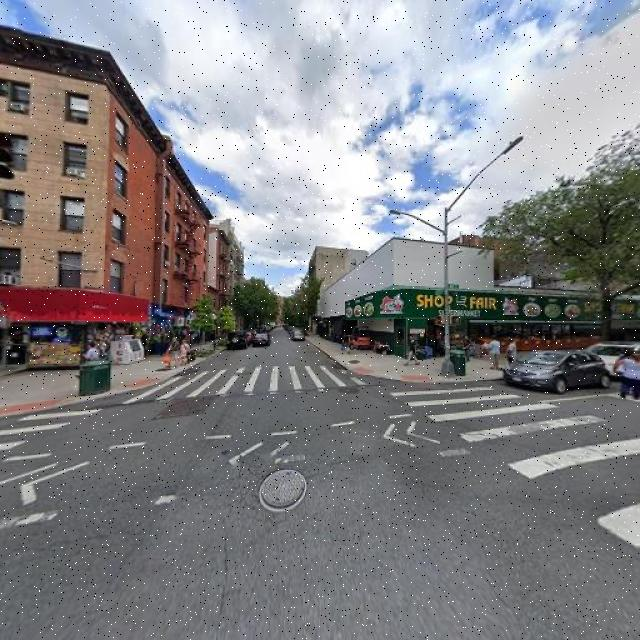Building: (1, 37, 210, 372), (318, 242, 640, 358)
